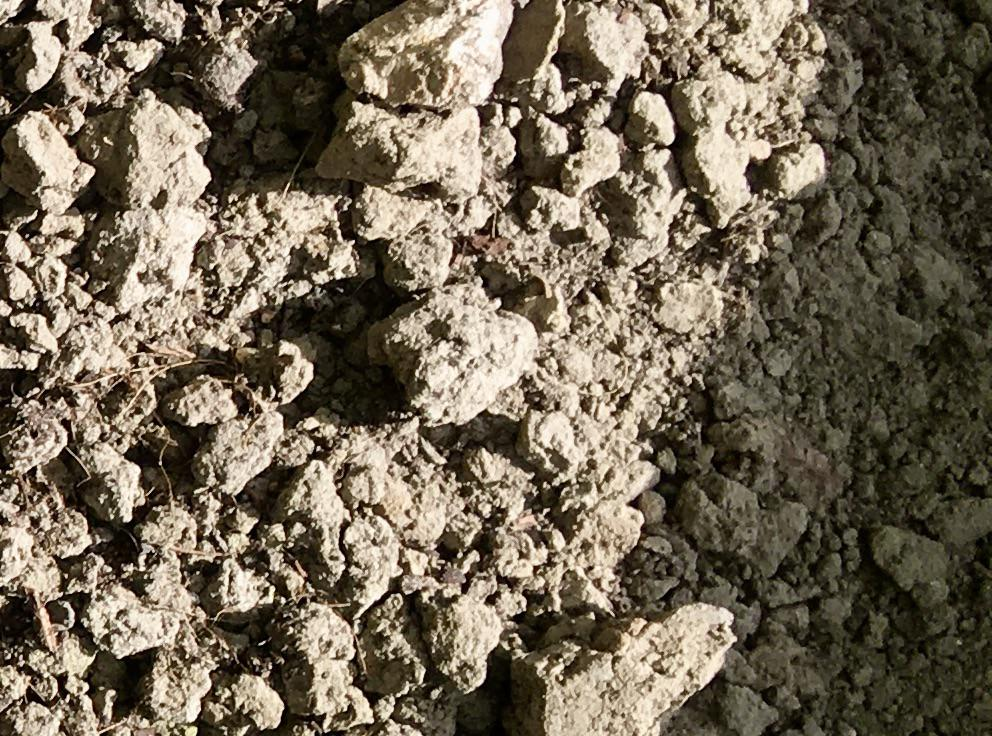block: (502, 602, 741, 736), (360, 283, 539, 424), (335, 1, 523, 107), (80, 92, 211, 208)
